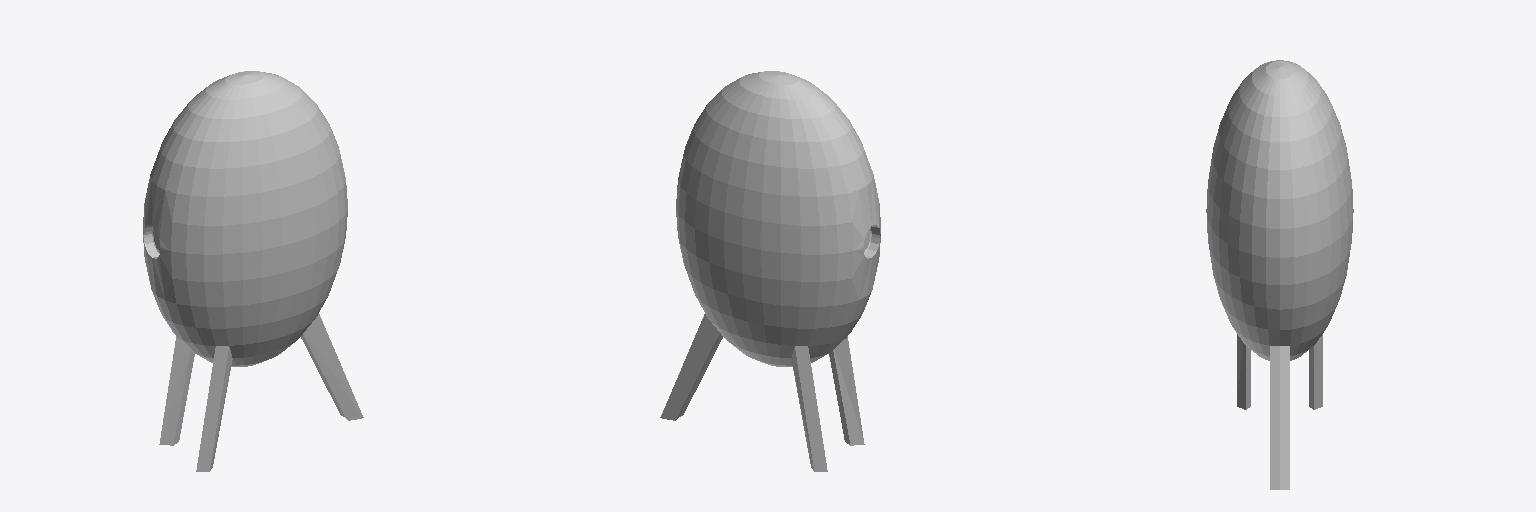
File: turret.obj
3 renders of one model, left to right at view 1: azimuth 30°, elevation 25°; view 2: azimuth 150°, elevation 25°; view 3: azimuth 270°, elevation 25°, orthographic.
Parts seen in each view (by area): view 1: Sphere_Sphere.003; view 2: Sphere_Sphere.003; view 3: Sphere_Sphere.003.
Part boxes in pixels (x1,y1,x2,y2): Sphere_Sphere.003: (143,71,363,471); Sphere_Sphere.003: (660,71,880,471); Sphere_Sphere.003: (1206,60,1353,489).
Bounding box in the file's own units: 0.8818 × 1.49 × 0.5401.